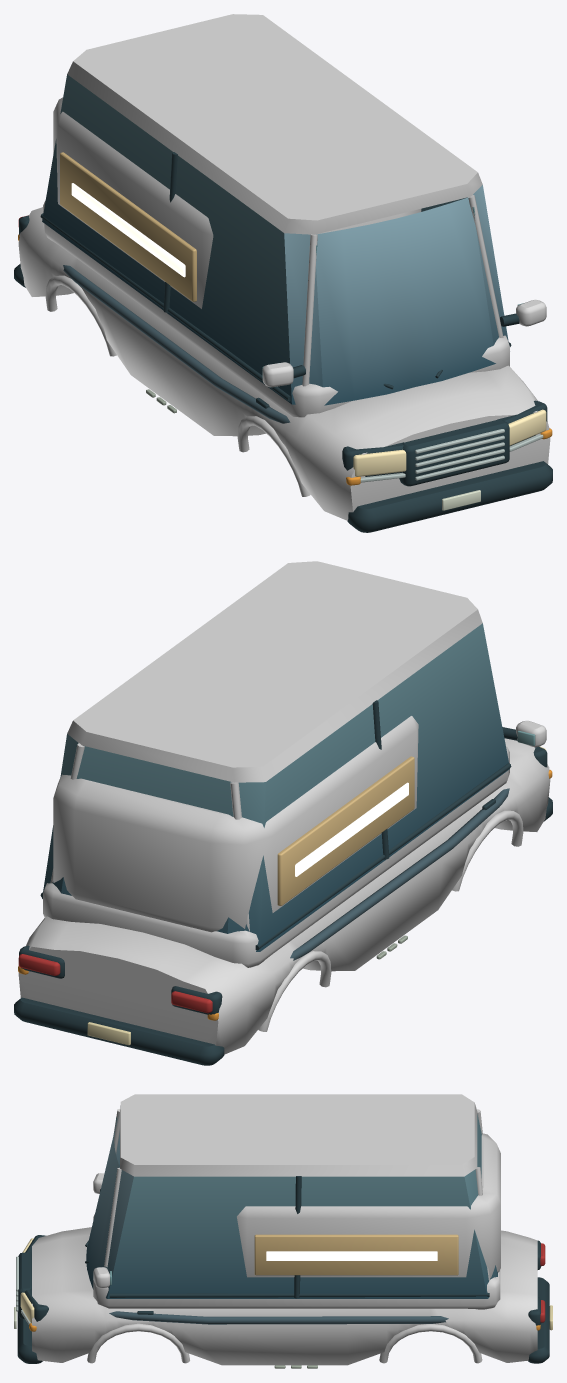
Rendered from parcel.glb.
3 renders of one model, top to bottom at view 1: azimuth 30°, elevation 25°; view 2: azimuth 150°, elevation 25°; view 3: azimuth 270°, elevation 25°, orthographic. The views are drawn at different scales.
Visible parts, largest first — view 1: Chassis, Headlamps; view 2: Chassis, BrakeLamps; view 3: Chassis.
Part boxes in pixels (x1,y1,x2,y2): Chassis: (14, 14, 552, 532); Headlamps: (353, 409, 546, 476); Chassis: (14, 561, 552, 1065); BrakeLamps: (18, 954, 212, 1013); Chassis: (14, 1094, 552, 1368).
Size of the model in its own units: 2.12 by 1.9 by 4.65.
